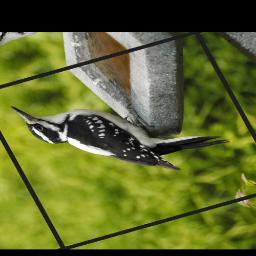Woodpecker: (5, 57, 238, 204)
